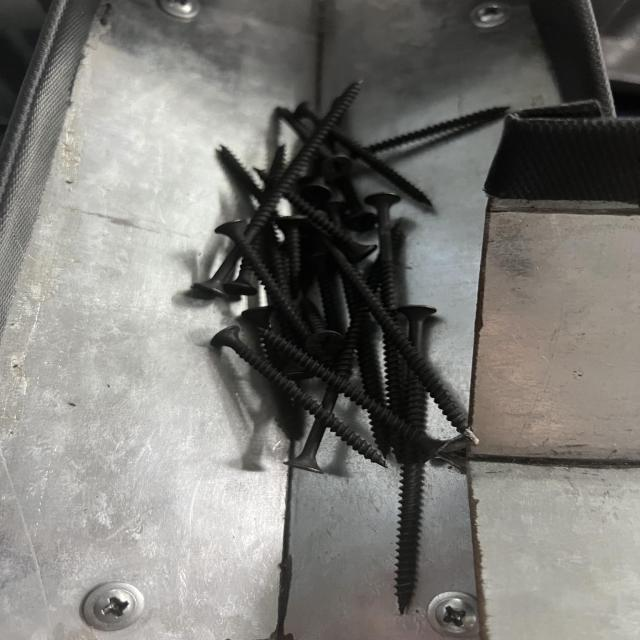screw: (213, 324, 387, 467), (388, 301, 444, 616), (219, 218, 312, 342)
